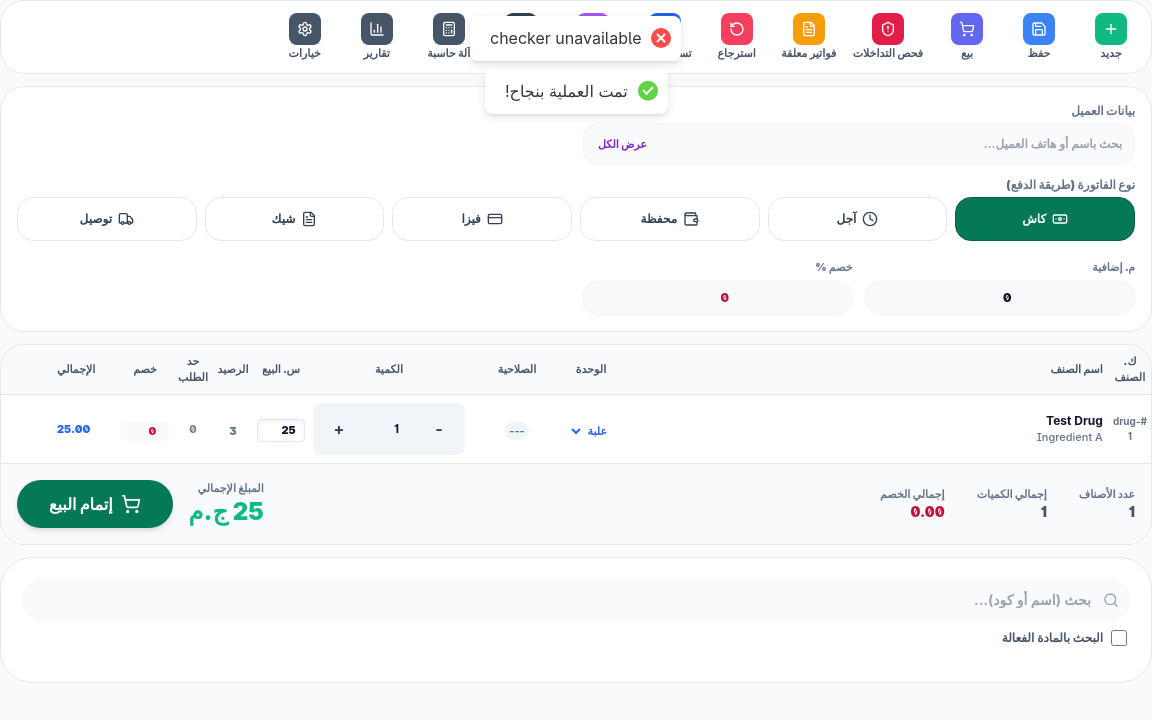
Test: rendered POS checkout flow › does not redirect to the retired manual-shift flow on a stale backend error
Click the button "إتمام البيع".
click(95, 504)  # box [17,480,173,528]
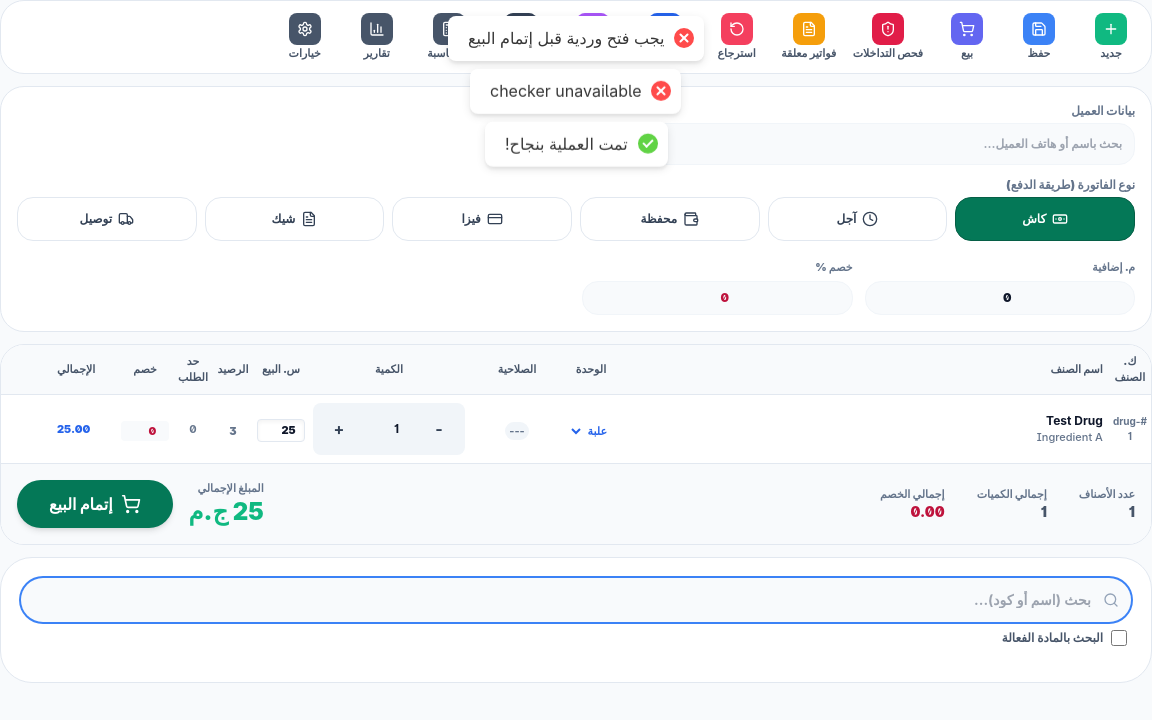
Expected: the text "يجب فتح وردية قبل إتمام البيع" is shown, [468,28,664,49]
